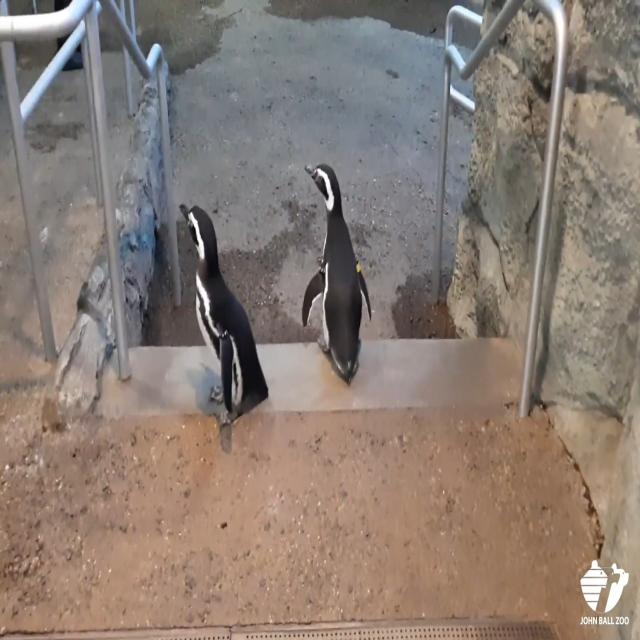penguin: (182, 201, 270, 422), (303, 162, 371, 386)
